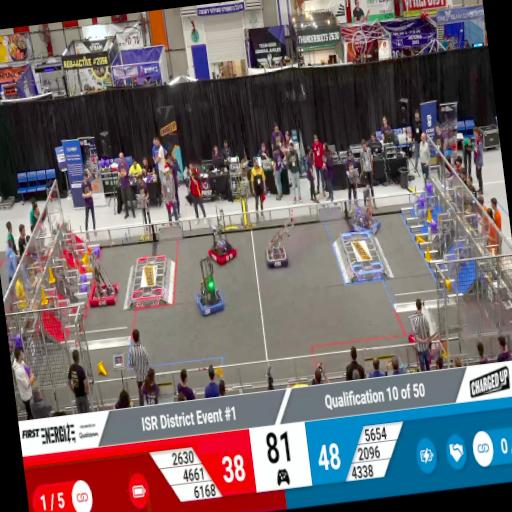robot: (404, 310, 448, 360), (84, 264, 120, 310), (204, 227, 238, 268), (349, 203, 384, 240), (261, 237, 292, 275), (194, 282, 226, 318)
